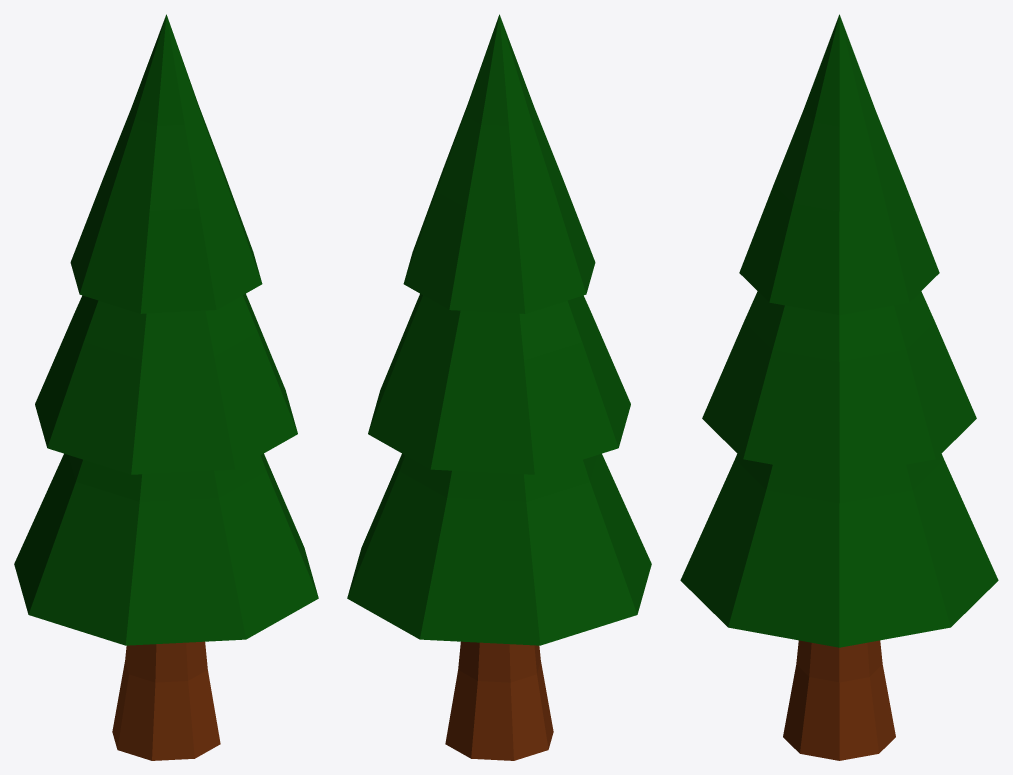
File: Pine Tree.fbx
The picture shows the model from 3 angles, left to right: view 1: azimuth 30°, elevation 25°; view 2: azimuth 150°, elevation 25°; view 3: azimuth 270°, elevation 25°; orthographic projection.
Visible parts, largest first — view 1: Tree; view 2: Tree; view 3: Tree.
Part boxes in pixels (<box>): Tree: <box>14,14,318,760</box>; Tree: <box>347,14,651,760</box>; Tree: <box>680,14,998,760</box>.
Bounding box in the file's own units: 891 × 891 × 2234.
